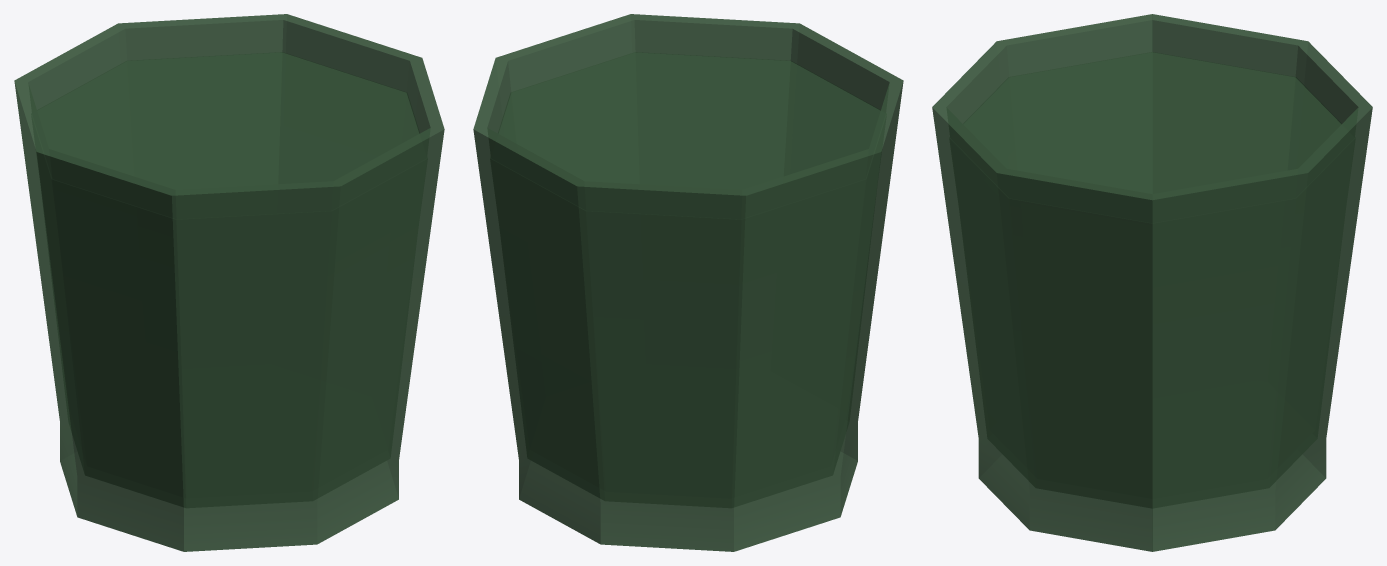
Rendered from Tumbler.fbx.
3 renders of one model, left to right at view 1: azimuth 30°, elevation 25°; view 2: azimuth 150°, elevation 25°; view 3: azimuth 270°, elevation 25°, orthographic.
Visible parts, largest first — view 1: pCylinder1, pCylinder2; view 2: pCylinder1, pCylinder2; view 3: pCylinder1, pCylinder2.
Part boxes in pixels (box(x1,y1,x2,y2)): pCylinder1: box(14, 14, 444, 551); pCylinder2: box(31, 52, 427, 284); pCylinder1: box(473, 14, 903, 551); pCylinder2: box(490, 52, 886, 284); pCylinder1: box(932, 14, 1372, 551); pCylinder2: box(949, 52, 1355, 287).
Size of the model in its own units: 2 by 1.86 by 2.
